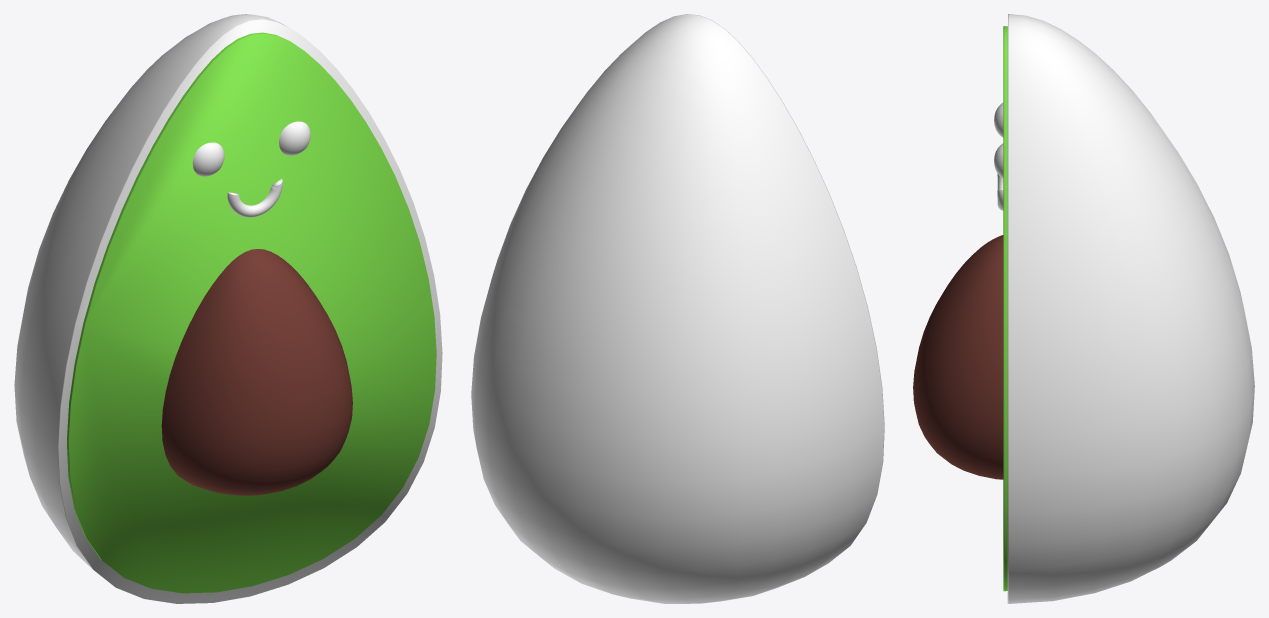
Rendered from palta.fbx.
The picture shows the model from 3 angles, left to right: view 1: azimuth 30°, elevation 25°; view 2: azimuth 150°, elevation 25°; view 3: azimuth 270°, elevation 25°; orthographic projection. The views are drawn at different scales.
Parts seen in each view (by area): view 1: Palta; view 2: Palta; view 3: Palta.
Part boxes in pixels (x1,y1,x2,y2): Palta: (14,14,442,603); Palta: (471,14,884,603); Palta: (913,14,1254,603).
Bounding box in the file's own units: 311 × 445 × 248.
